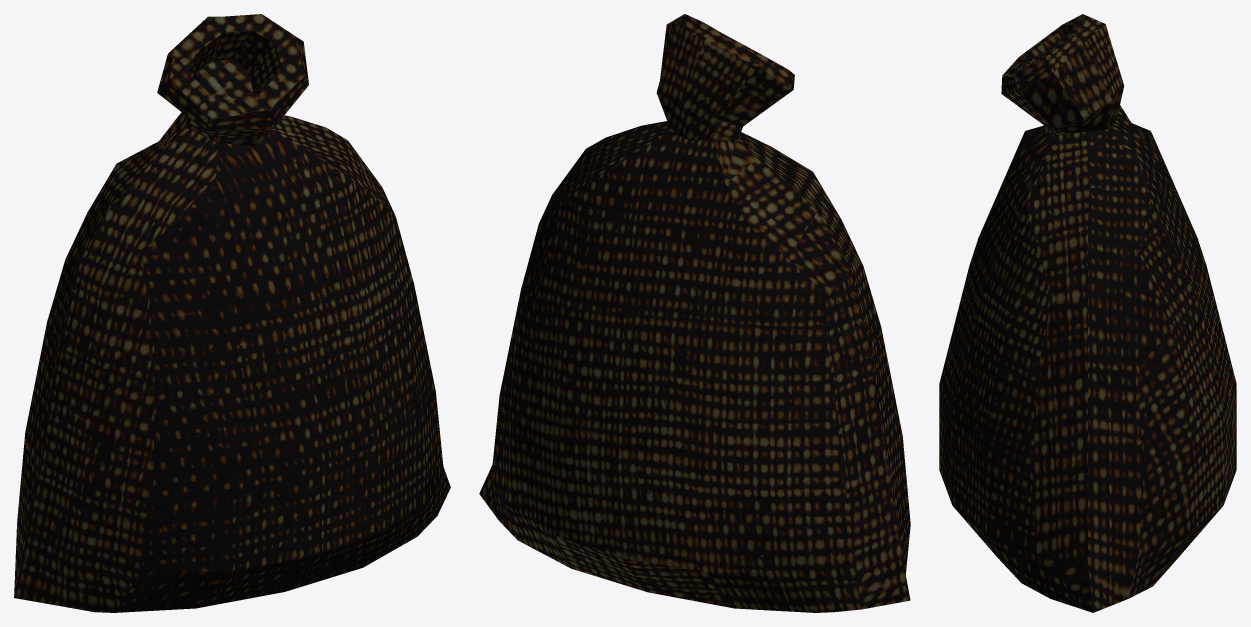
The model's file is bag.fbx.
3 renders of one model, left to right at view 1: azimuth 30°, elevation 25°; view 2: azimuth 150°, elevation 25°; view 3: azimuth 270°, elevation 25°, orthographic. The views are drawn at different scales.
Visible parts, largest first — view 1: Bag; view 2: Bag; view 3: Bag.
Boxes of the visible parts, box(x1,y1,x2,y2) form: Bag: box(14, 14, 450, 612); Bag: box(479, 14, 910, 612); Bag: box(939, 14, 1236, 612).
Size of the model in its own units: 64.65 by 77.55 by 41.25.
Materials: 1 (1 with a texture image).
